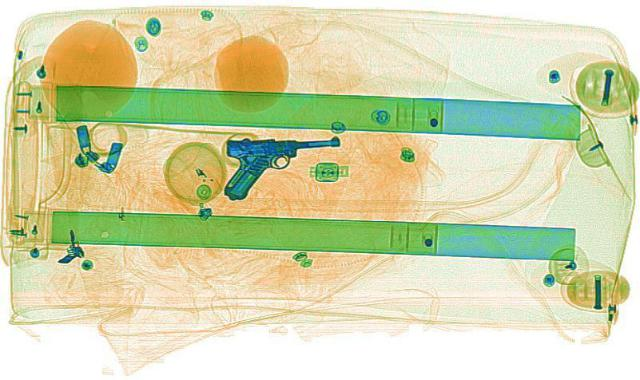Gun: (220, 135, 344, 197)
